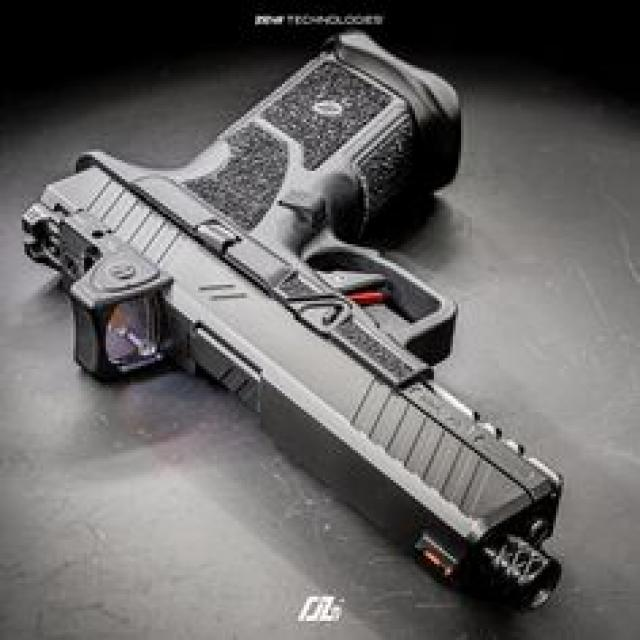semi automatic: (6, 22, 588, 624)
